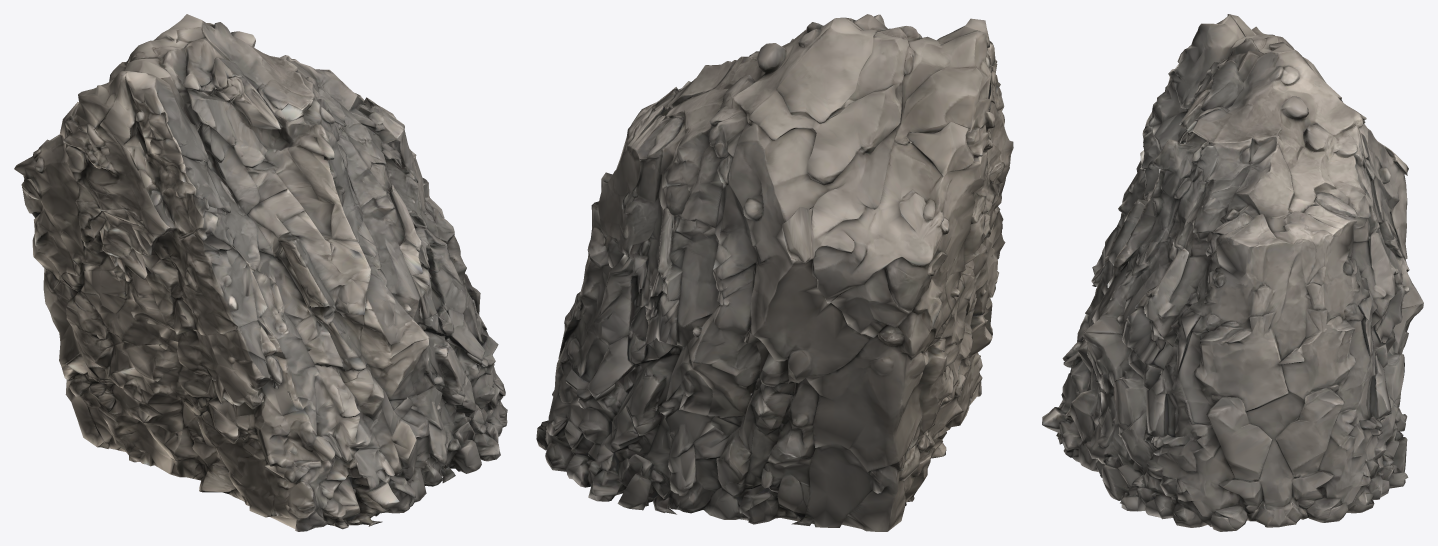
The model's file is crag_c.glb.
The picture shows the model from 3 angles, left to right: view 1: azimuth 30°, elevation 25°; view 2: azimuth 150°, elevation 25°; view 3: azimuth 270°, elevation 25°; orthographic projection. The views are drawn at different scales.
Parts seen in each view (by area): view 1: crag_c; view 2: crag_c; view 3: crag_c.
Part boxes in pixels (box(x1,y1,x2,y2)): crag_c: box(14, 14, 507, 531); crag_c: box(536, 14, 1013, 531); crag_c: box(1042, 14, 1423, 531).
Size of the model in its own units: 53.42 by 54.07 by 50.7.
1 material, 1 textured.
